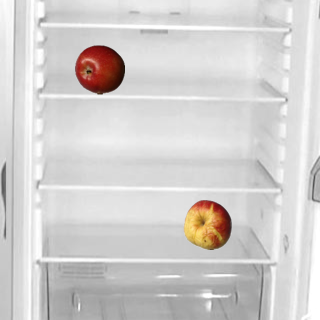Apple Braeburn: (74, 44, 124, 94)
Apple Red Yellow 1: (182, 199, 232, 249)
